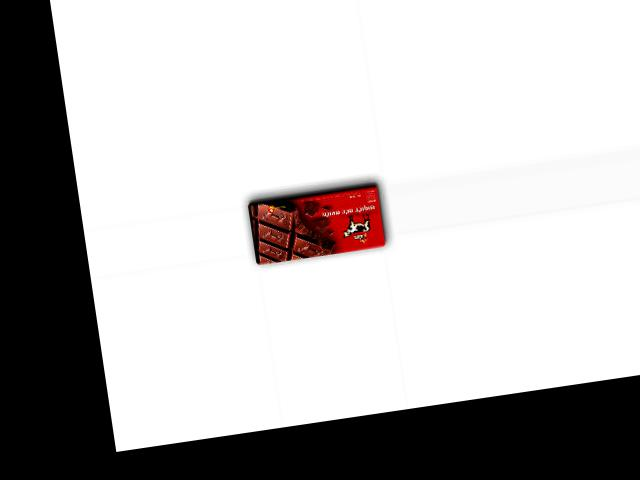chocolate: (244, 179, 389, 268)
